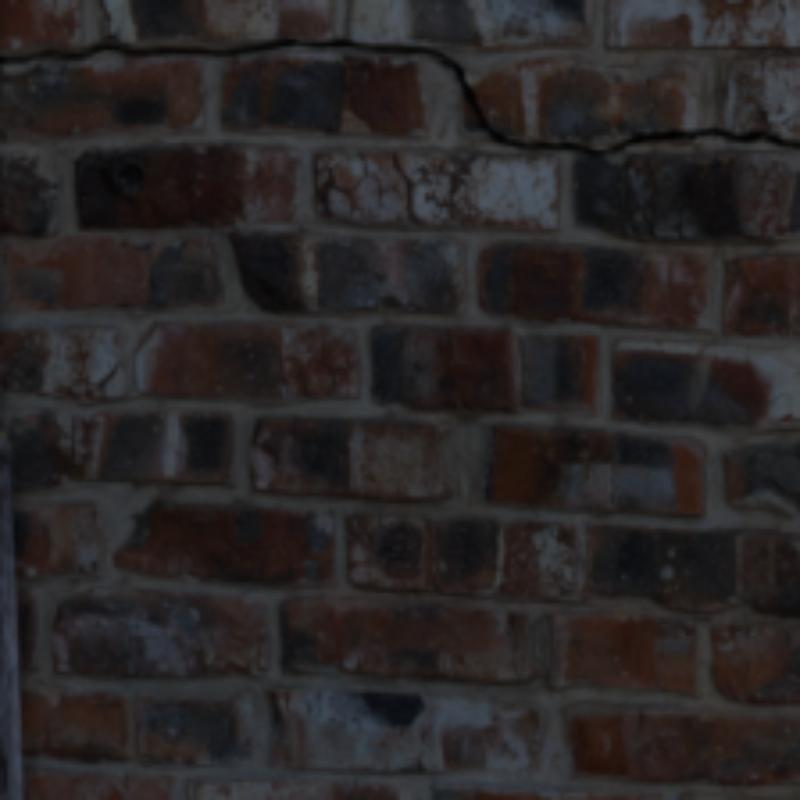pothole: (0, 36, 796, 157), (393, 150, 425, 225), (89, 368, 121, 396)
